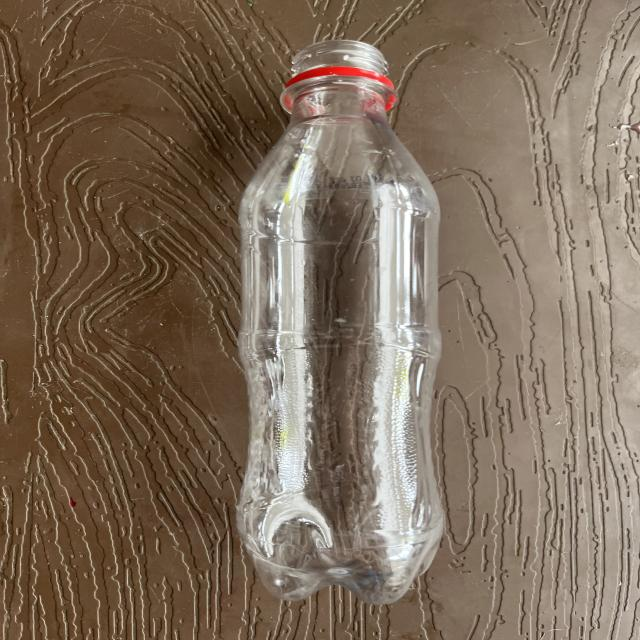PET_With_Cap: (237, 40, 443, 604)
